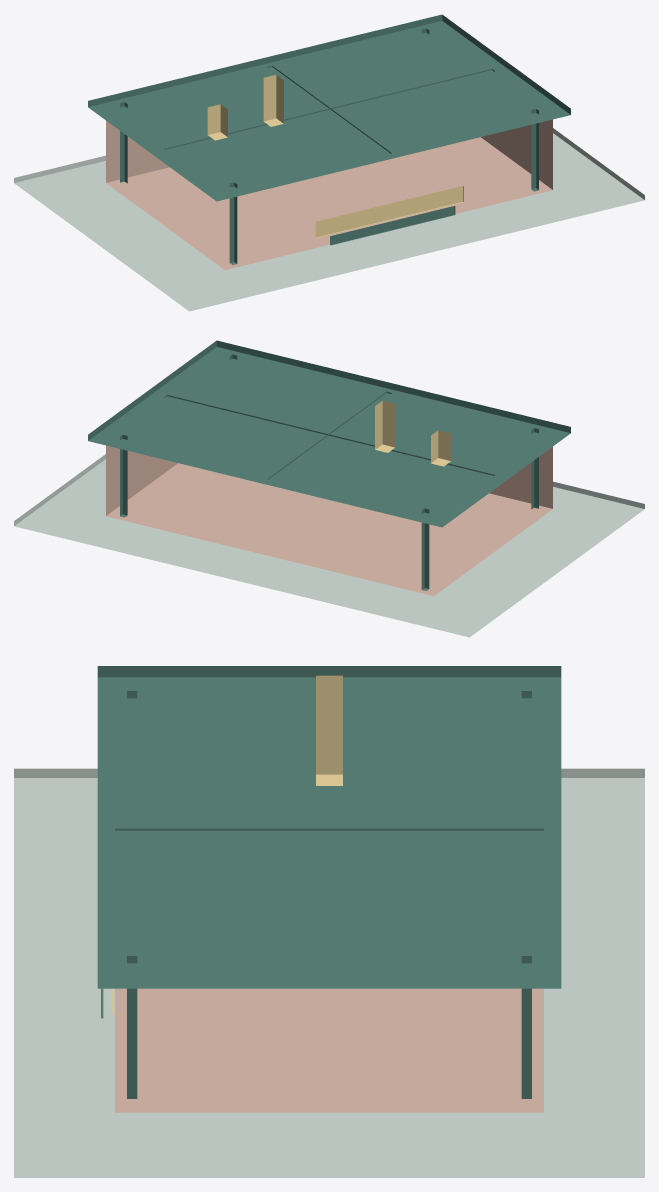
Rendered from textile.glb.
3 renders of one model, top to bottom at view 1: azimuth 30°, elevation 25°; view 2: azimuth 150°, elevation 25°; view 3: azimuth 270°, elevation 25°, orthographic. The views are drawn at different scales.
Visible parts, largest first — view 1: Roof, Foundation, Walls, Details, Frame; view 2: Roof, Walls, Foundation, Frame, Details; view 3: Roof, Foundation, Walls, Frame, Details.
Boxes of the visible parts, <box> form: Roof: <box>88,14,570,201</box>; Foundation: <box>14,128,644,311</box>; Walls: <box>106,119,552,270</box>; Details: <box>207,74,463,245</box>; Frame: <box>120,28,538,264</box>; Roof: <box>88,340,570,527</box>; Walls: <box>106,445,552,596</box>; Foundation: <box>14,454,644,637</box>; Frame: <box>120,354,538,590</box>; Details: <box>375,400,451,466</box>; Roof: <box>97,666,561,988</box>; Foundation: <box>14,768,644,1177</box>; Walls: <box>115,988,543,1112</box>; Frame: <box>115,691,543,1098</box>; Details: <box>101,675,342,1018</box>.
Bounding box in the file's own units: 60 × 15.9 × 40.
